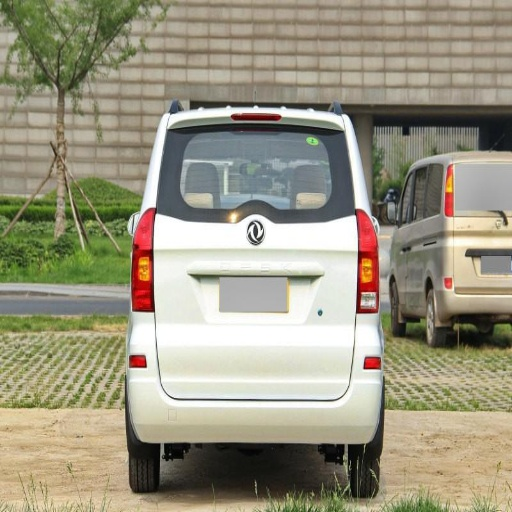back_bumper: (128, 361, 382, 443)
trunk: (133, 213, 365, 399), (442, 217, 509, 291)
